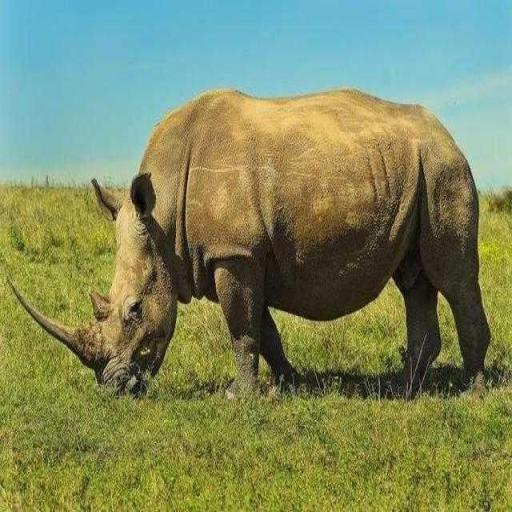Rhino: (7, 84, 492, 402)
